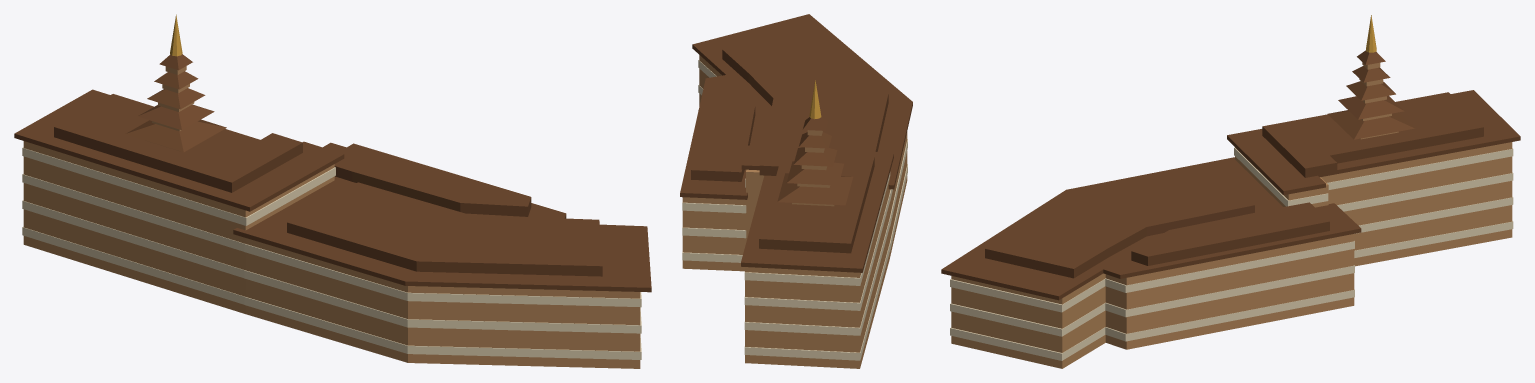
The model's file is kandawgyi_palace.glb.
3 views of the same model, side by side, from view 1: azimuth 30°, elevation 25°; view 2: azimuth 150°, elevation 25°; view 3: azimuth 270°, elevation 25° (orthographic). The views are drawn at different scales.
Parts seen in each view (by area): view 1: part; view 2: part; view 3: part.
Part boxes in pixels (bbox=[...]): part: bbox=[14, 14, 651, 368]; part: bbox=[680, 14, 912, 368]; part: bbox=[941, 15, 1520, 368].
Bounding box in the file's own units: 1899430 × 1091880 × 2553904.
